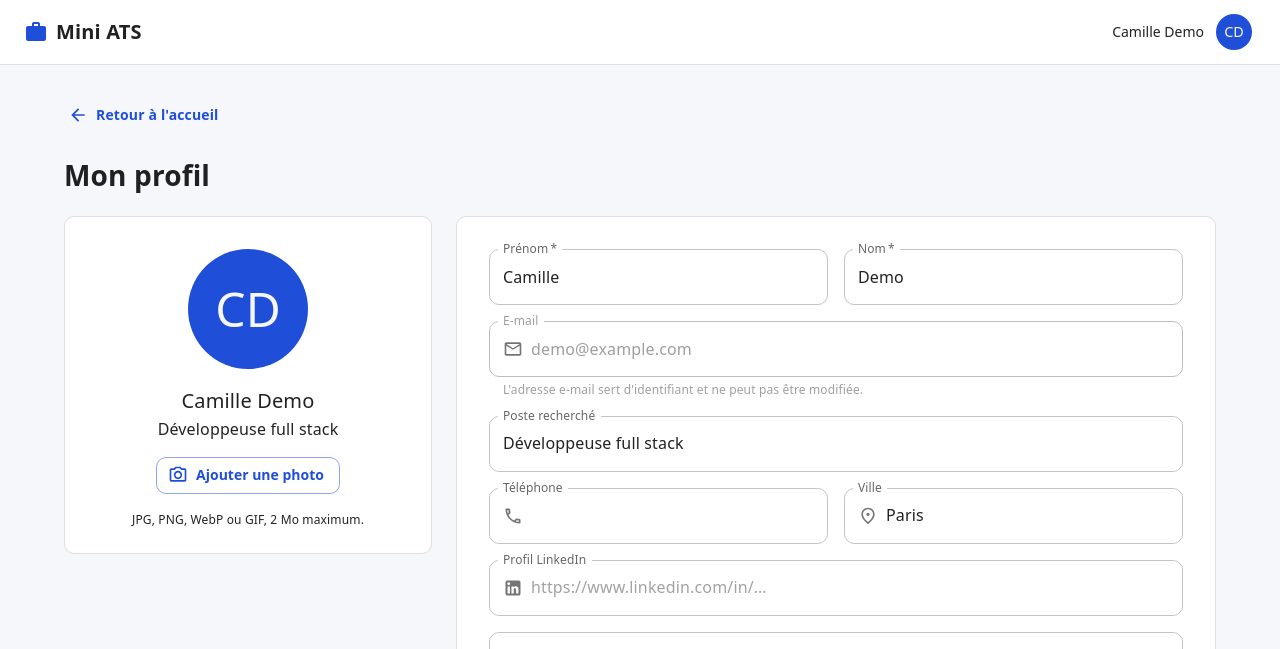
Test: profil › revient à l'accueil depuis la page de profil
Click the link "Retour à l'accueil" at point(143, 115), box [68,105,218,125]
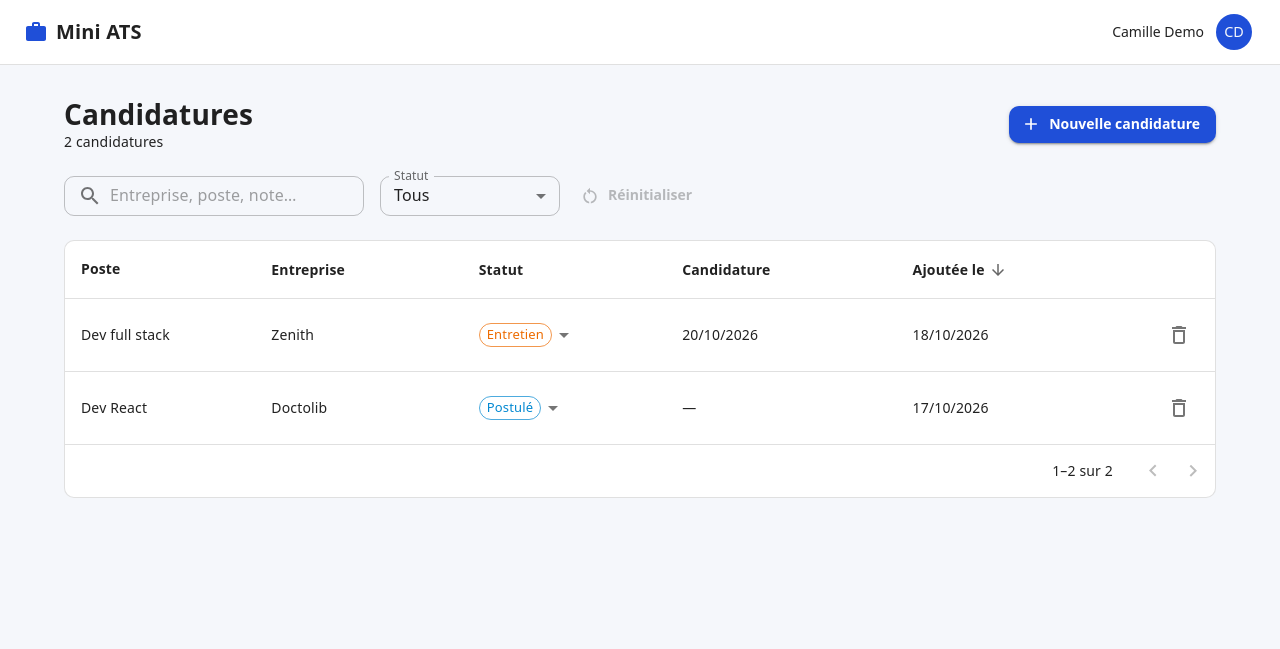
Check: the heading "Candidatures" is shown, box [64,97,253,132]
